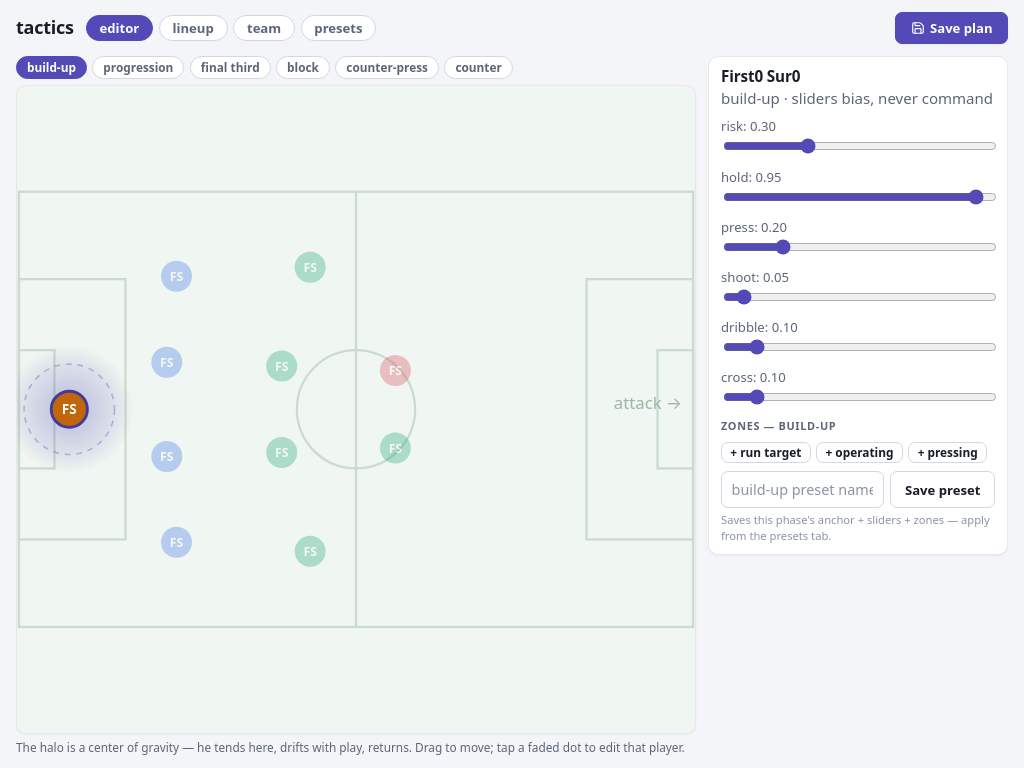
Test: the chooser can be reopened from the pitch, and the standing plan restores the server default
Expected: the button "Save plan" is shown, [895, 12, 1008, 44]
Click the button "lineup" at point(193, 28), box [159, 15, 228, 41]
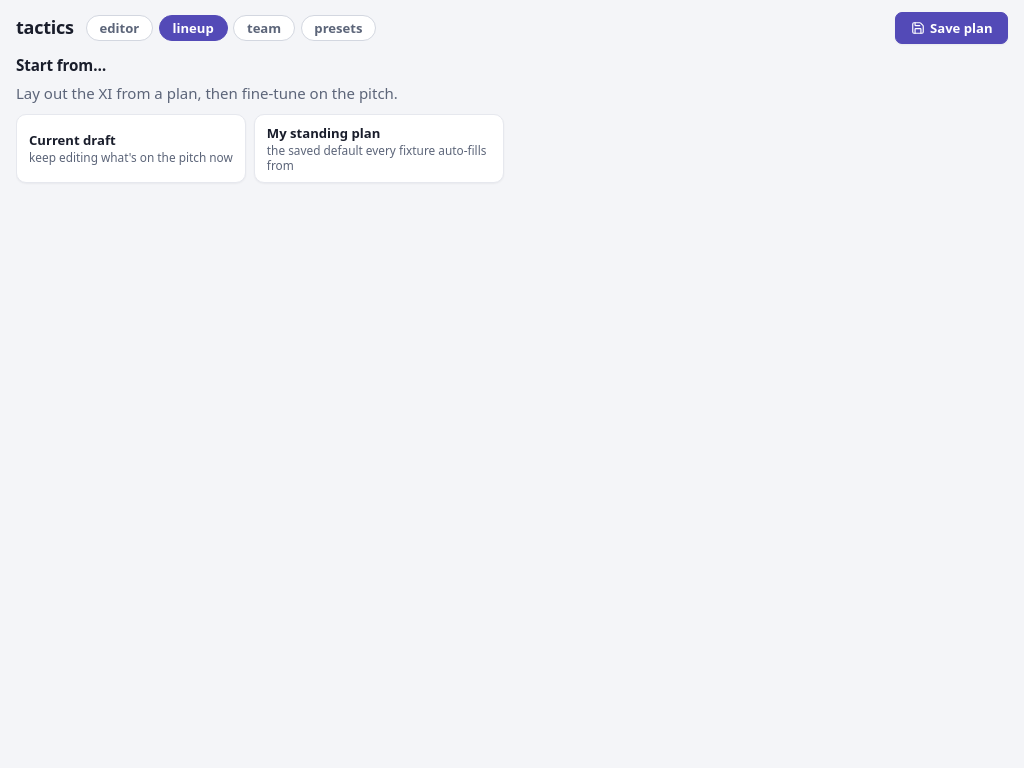
Click the text "Current draft" at point(72, 140), box [29, 132, 116, 148]
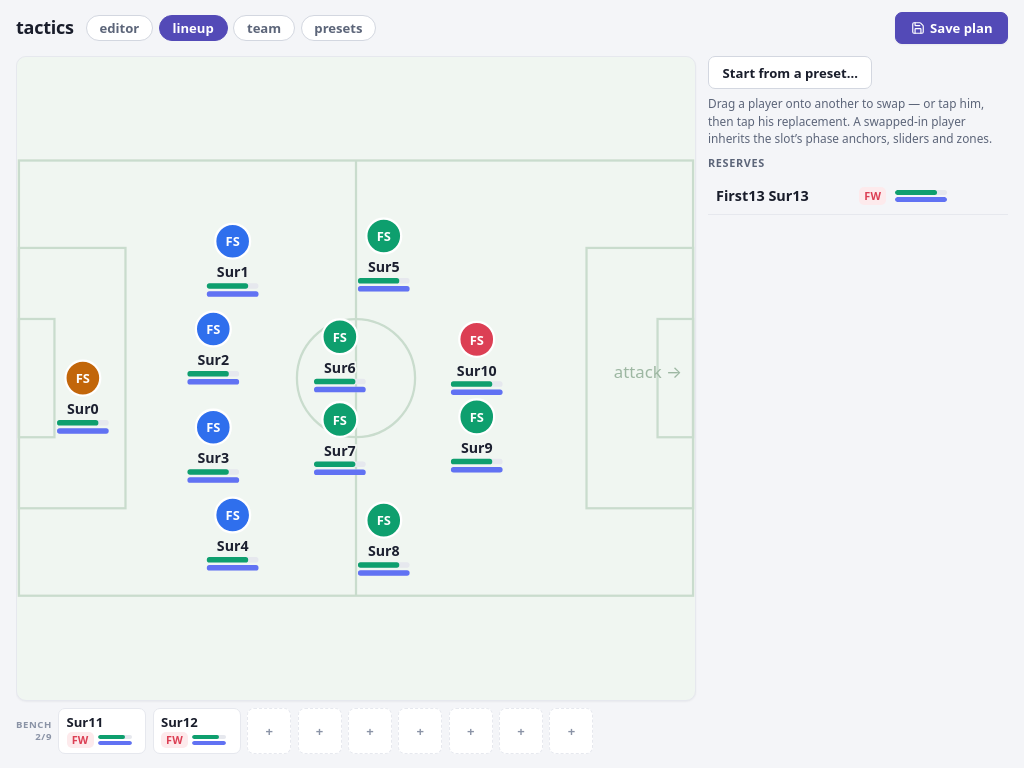
Expected: the element with test id "bench-strip" is shown, [16, 708, 594, 754]
fine-tune, then reopen the chooser and load the standing plan
Click the button "Start from a preset…" at point(790, 73), box [708, 56, 872, 89]
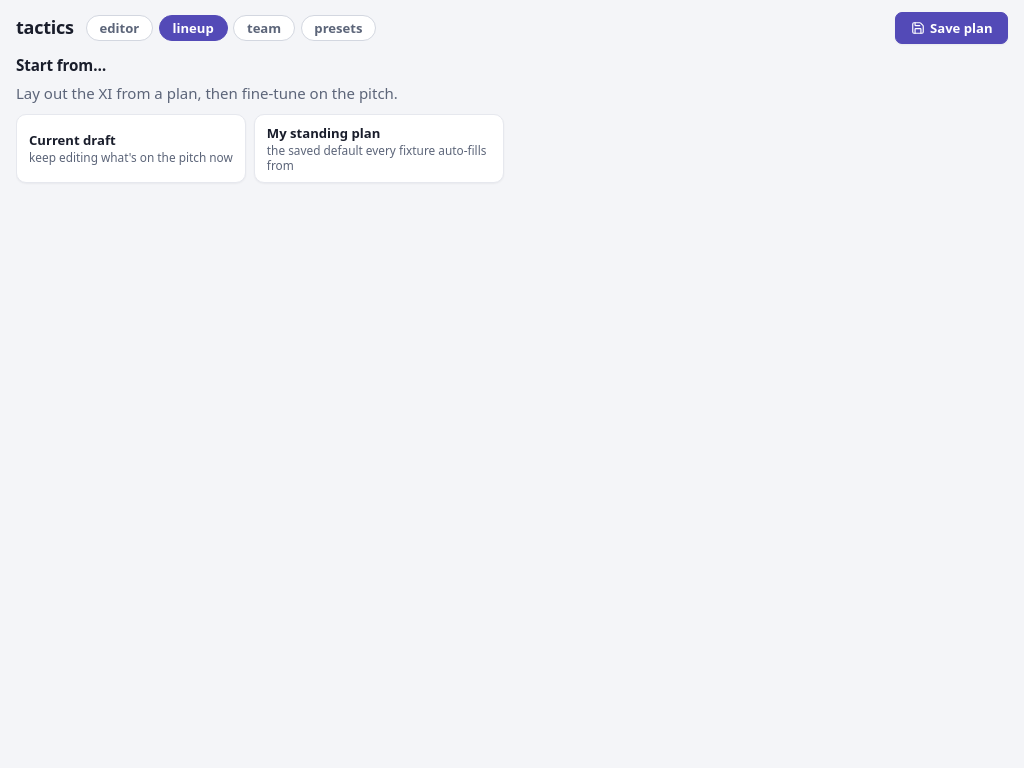
Click the text "My standing plan" at point(324, 133), box [267, 125, 380, 141]
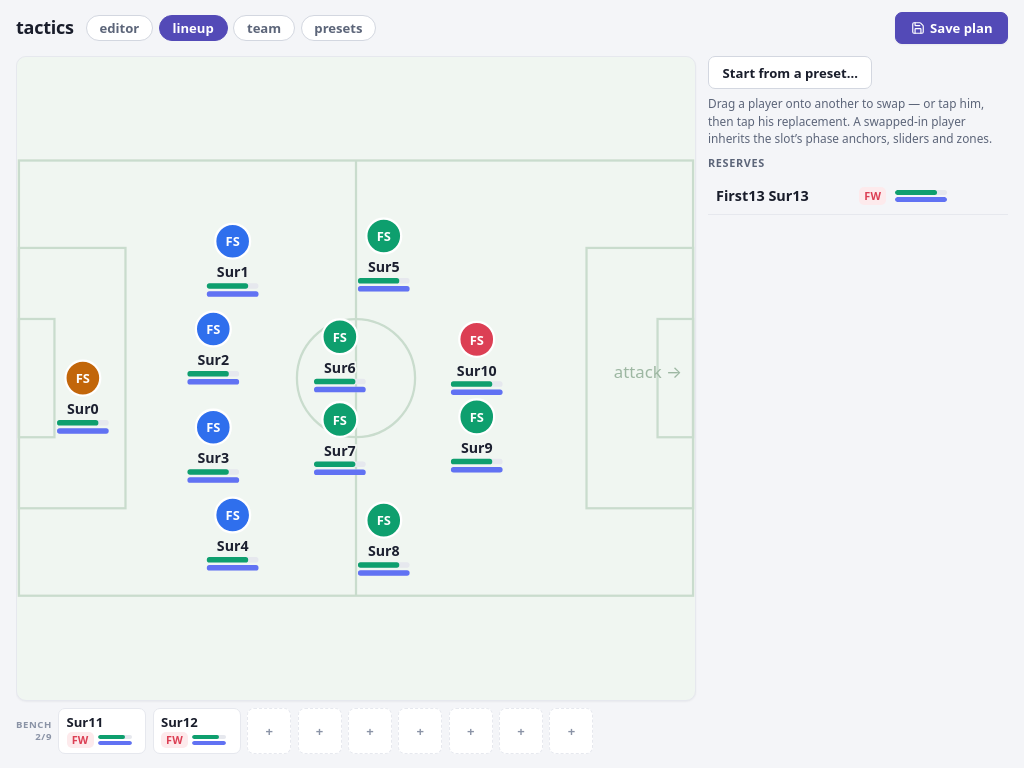
Expected: the text "Sur0" is shown, [67, 400, 99, 419]
Expected: the element with test id "bench-strip" is shown, [16, 708, 594, 754]
